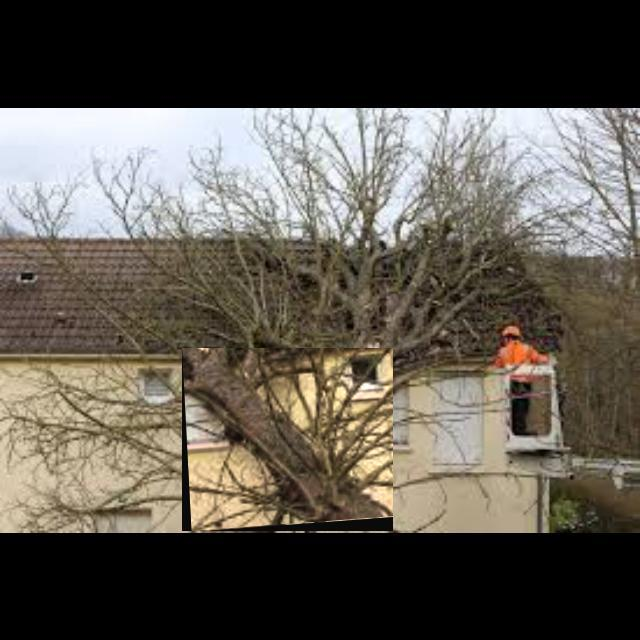fallen_tree: (182, 348, 394, 532)
